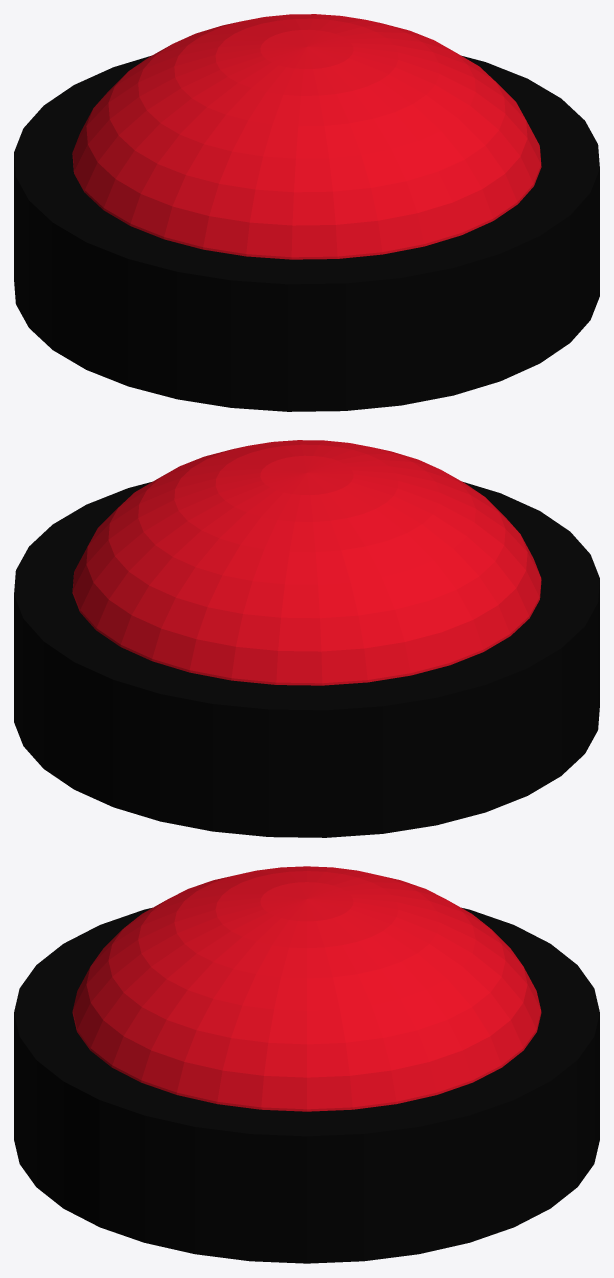
Rendered from Button.fbx.
3 views of the same model, one above another, from view 1: azimuth 30°, elevation 25°; view 2: azimuth 150°, elevation 25°; view 3: azimuth 270°, elevation 25° (orthographic).
Parts seen in each view (by area): view 1: Cylinder, Sphere; view 2: Cylinder, Sphere; view 3: Cylinder, Sphere.
Part boxes in pixels (left/top/right/bottom): Cylinder: left=14, top=55, right=599, bottom=411; Sphere: left=72, top=14, right=541, bottom=259; Cylinder: left=14, top=481, right=599, bottom=837; Sphere: left=72, top=440, right=541, bottom=685; Cylinder: left=14, top=907, right=599, bottom=1263; Sphere: left=72, top=866, right=541, bottom=1111.
Bounding box in the file's own units: 200 × 90.65 × 200.
